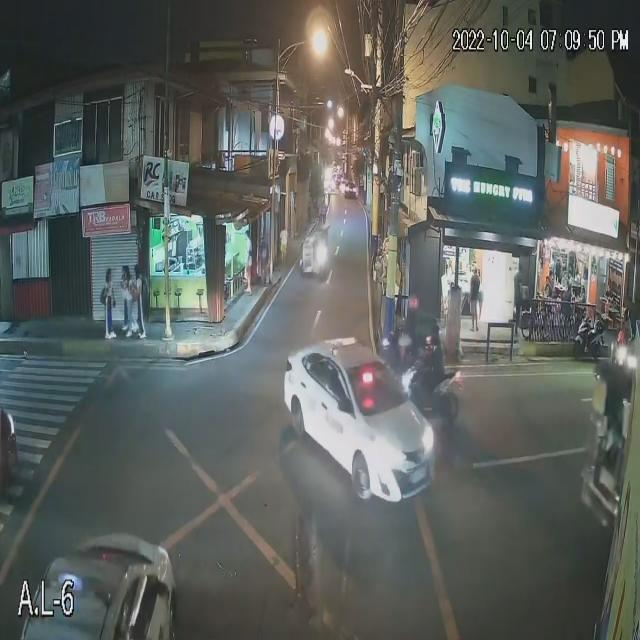helmet: (424, 333, 439, 353), (407, 293, 421, 312)
motorcycle: (394, 369, 462, 425), (376, 330, 447, 362), (568, 315, 613, 358)
rider: (419, 346, 444, 412), (398, 310, 419, 363)
